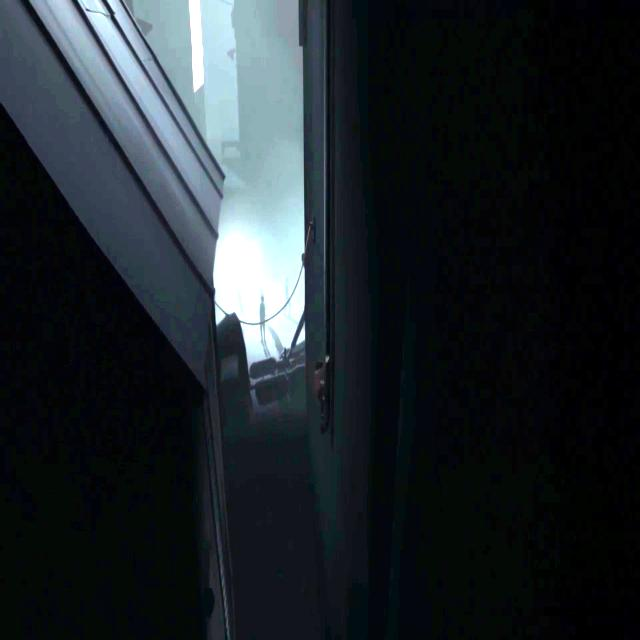boy: (312, 348, 330, 432)
zombie: (260, 295, 266, 343), (284, 279, 290, 318), (238, 285, 244, 321)
